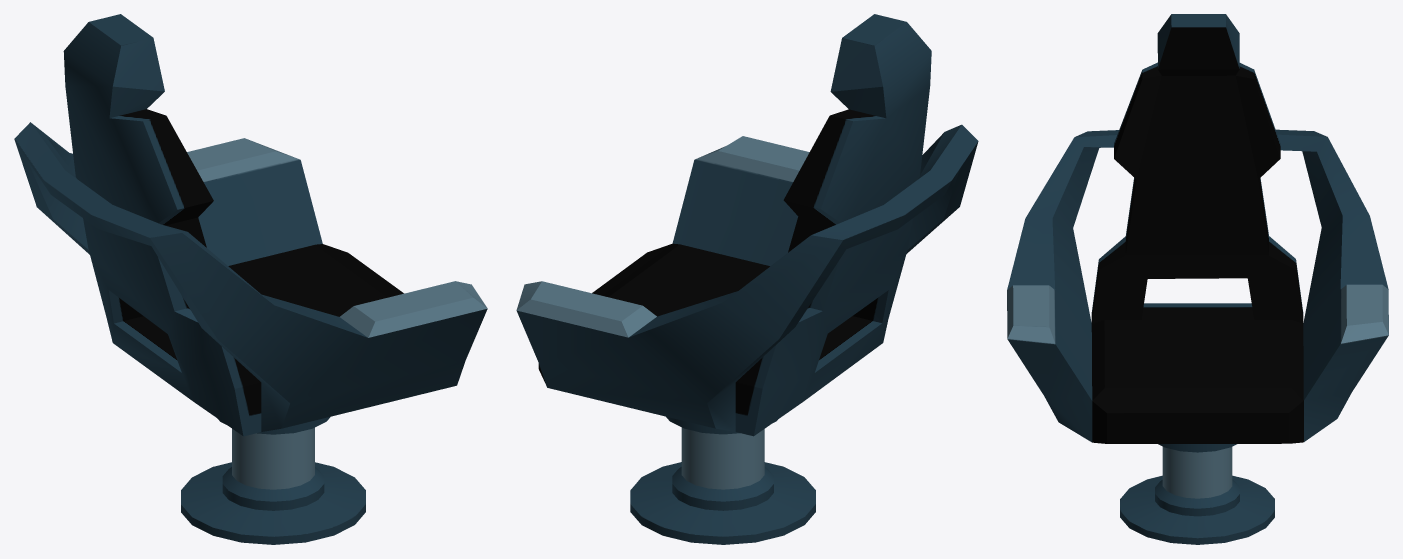
File: chair.FBX
The picture shows the model from 3 angles, left to right: view 1: azimuth 30°, elevation 25°; view 2: azimuth 150°, elevation 25°; view 3: azimuth 270°, elevation 25°; orthographic projection. The views are drawn at different scales.
Visible parts, largest first — view 1: chair; view 2: chair; view 3: chair.
Boxes of the visible parts, left/top/right/bottom form: chair: left=14, top=14, right=487, bottom=544; chair: left=516, top=14, right=978, bottom=544; chair: left=1007, top=14, right=1388, bottom=544.
Bounding box in the file's own units: 88.73 × 129 × 104.
Materials: 1 (1 with a texture image).
